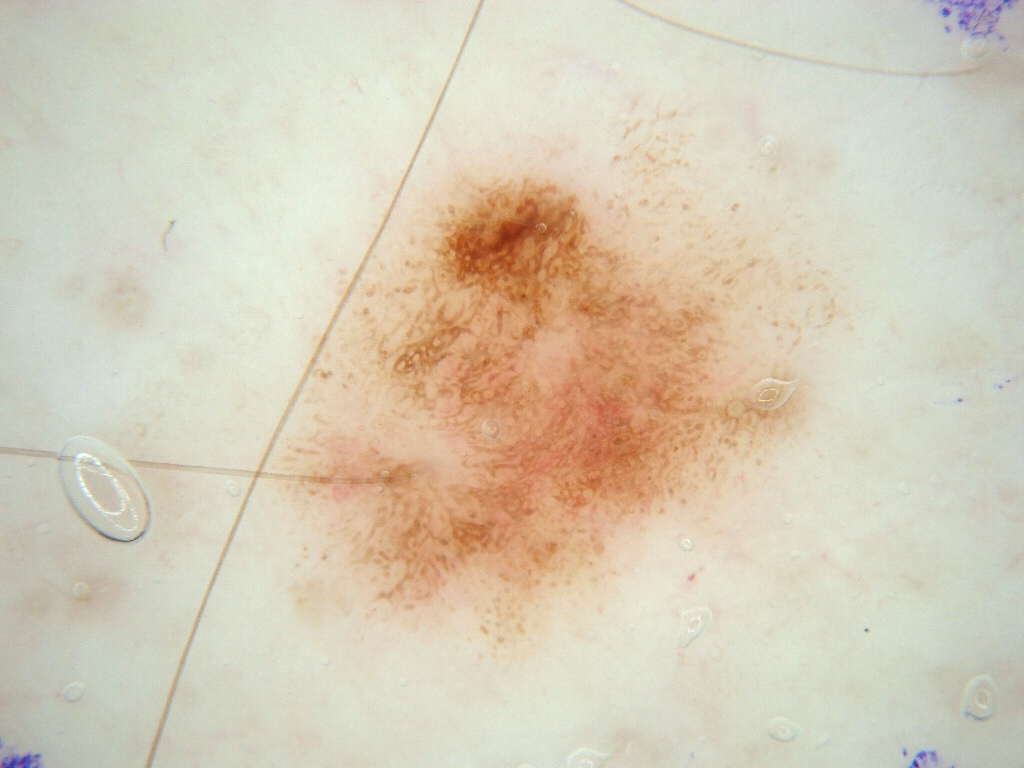Detected Lesion: (278, 88, 836, 650)
